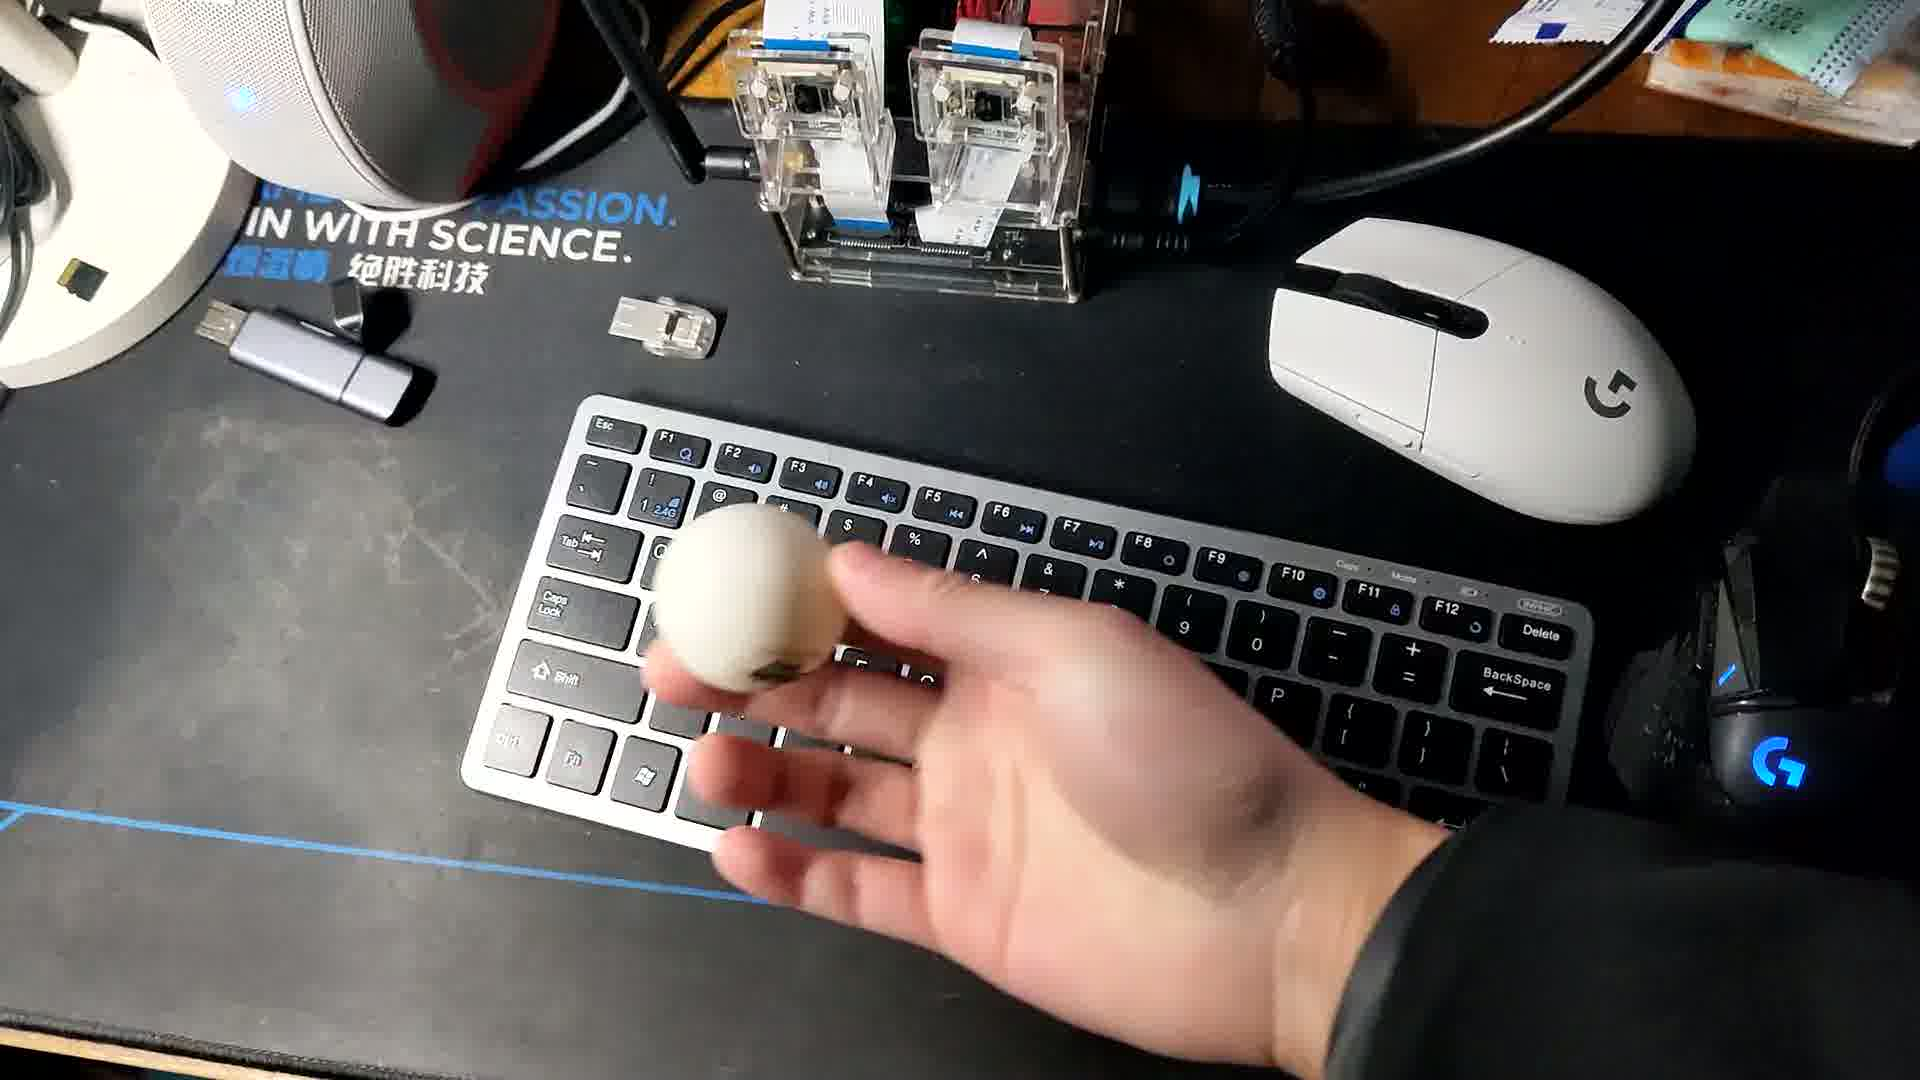Ball: (651, 505, 847, 696)
